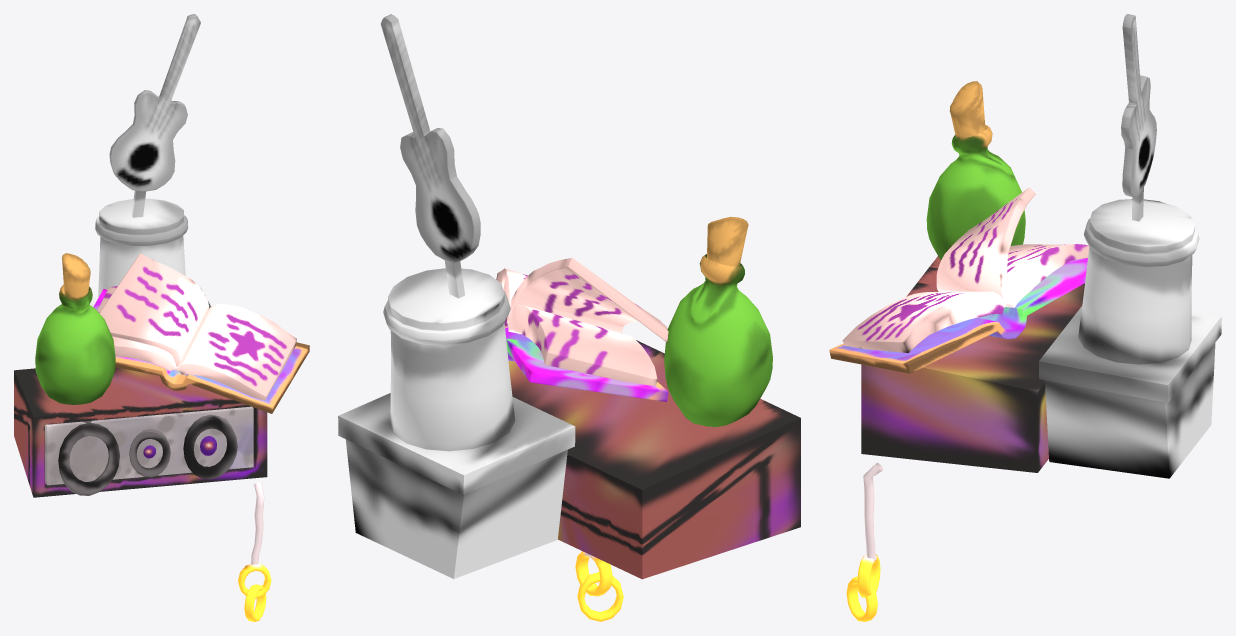
File: Empty_Group_Music_Stand_Lvl02.fbx
3 views of the same model, side by side, from view 1: azimuth 30°, elevation 25°; view 2: azimuth 150°, elevation 25°; view 3: azimuth 270°, elevation 25° (orthographic). The views are drawn at different scales.
Parts seen in each view (by area): view 1: Main_Small_Speakers_Music_Stand_Lvl02, Magic_Book_Music_Stand_Lvl02, Trophy_Music_Stand_Lvl02, Potion_Music_Stand_Lvl02, Braclet_Music_Stand_Lvl02; view 2: Trophy_Music_Stand_Lvl02, Main_Small_Speakers_Music_Stand_Lvl02, Magic_Book_Music_Stand_Lvl02, Potion_Music_Stand_Lvl02, Braclet_Music_Stand_Lvl02; view 3: Trophy_Music_Stand_Lvl02, Main_Small_Speakers_Music_Stand_Lvl02, Magic_Book_Music_Stand_Lvl02, Potion_Music_Stand_Lvl02, Braclet_Music_Stand_Lvl02.
Part boxes in pixels (bbox=[...]): Main_Small_Speakers_Music_Stand_Lvl02: bbox=[14, 367, 267, 497]; Magic_Book_Music_Stand_Lvl02: bbox=[93, 253, 309, 413]; Trophy_Music_Stand_Lvl02: bbox=[89, 14, 210, 308]; Potion_Music_Stand_Lvl02: bbox=[35, 253, 115, 404]; Braclet_Music_Stand_Lvl02: bbox=[238, 482, 271, 621]; Trophy_Music_Stand_Lvl02: bbox=[338, 14, 575, 578]; Main_Small_Speakers_Music_Stand_Lvl02: bbox=[508, 340, 800, 579]; Magic_Book_Music_Stand_Lvl02: bbox=[496, 257, 668, 401]; Potion_Music_Stand_Lvl02: bbox=[664, 216, 772, 426]; Braclet_Music_Stand_Lvl02: bbox=[575, 551, 623, 621]; Trophy_Music_Stand_Lvl02: bbox=[1039, 14, 1221, 478]; Main_Small_Speakers_Music_Stand_Lvl02: bbox=[861, 256, 1084, 472]; Magic_Book_Music_Stand_Lvl02: bbox=[829, 187, 1089, 373]; Potion_Music_Stand_Lvl02: bbox=[926, 81, 1025, 260]; Braclet_Music_Stand_Lvl02: bbox=[846, 463, 882, 621].
Size of the model in its own units: 0.4522 by 0.8596 by 0.4829.
Materials: 1 (1 with a texture image).
